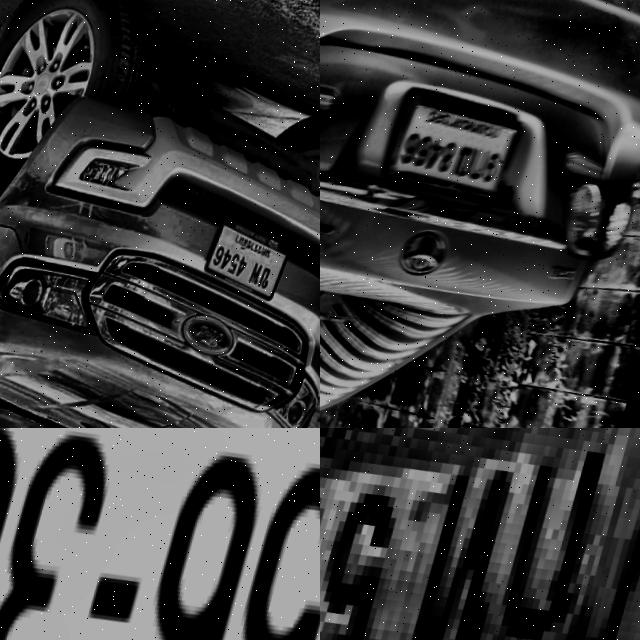license-plate: (0, 428, 320, 640), (320, 428, 640, 640), (384, 86, 536, 213), (201, 212, 306, 315)
